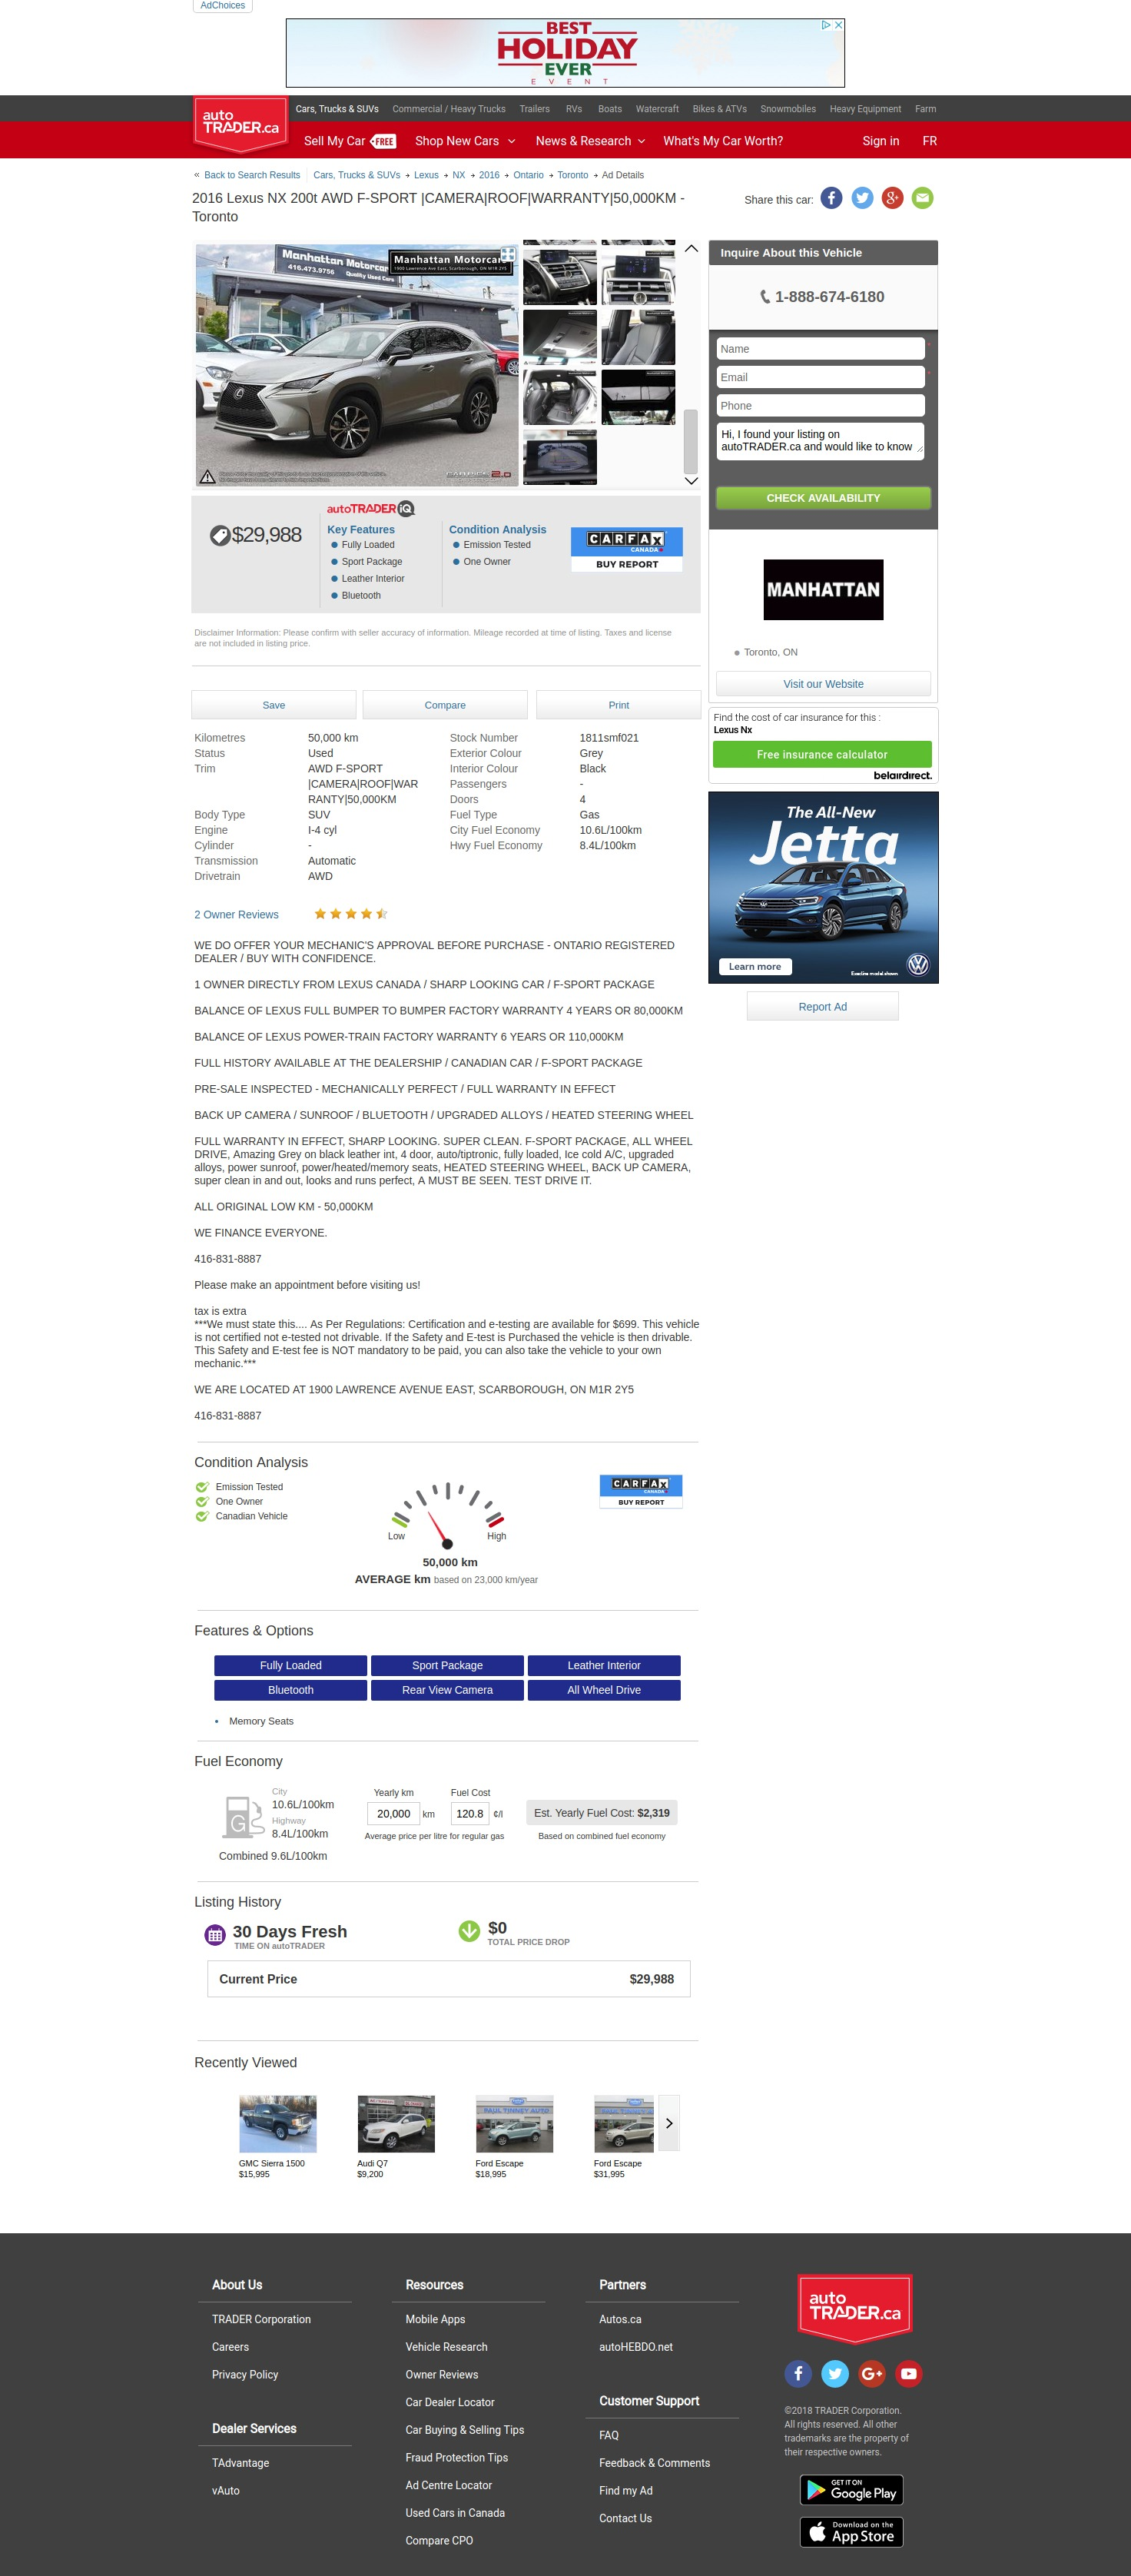car: (685, 476, 701, 486)
